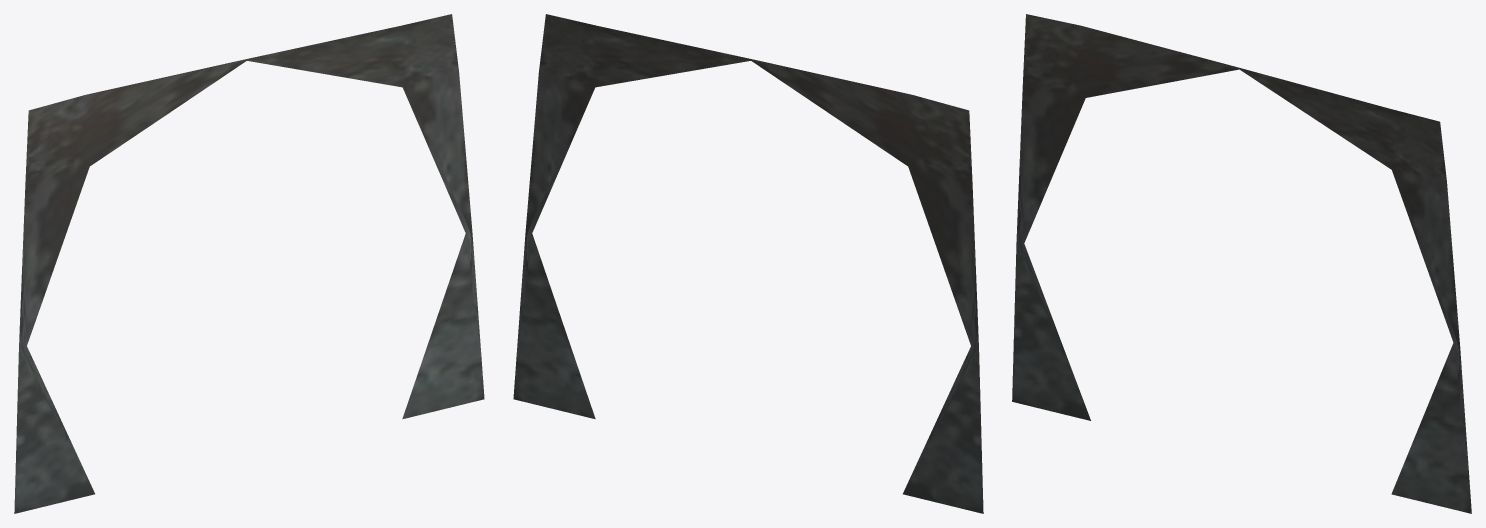
The model's file is entrance-mesh-new.glb.
The picture shows the model from 3 angles, left to right: view 1: azimuth 30°, elevation 25°; view 2: azimuth 150°, elevation 25°; view 3: azimuth 330°, elevation 25°; orthographic projection. The views are drawn at different scales.
Parts seen in each view (by area): view 1: Plane; view 2: Plane; view 3: Plane.
Boxes of the visible parts, x1=… form: Plane: x1=14, y1=14, x2=484, y2=513; Plane: x1=513, y1=14, x2=983, y2=513; Plane: x1=1012, y1=14, x2=1471, y2=513.
Bounding box in the file's own units: 2.62 × 2.14 × 2.82e-08.
Materials: 1 (1 with a texture image).
